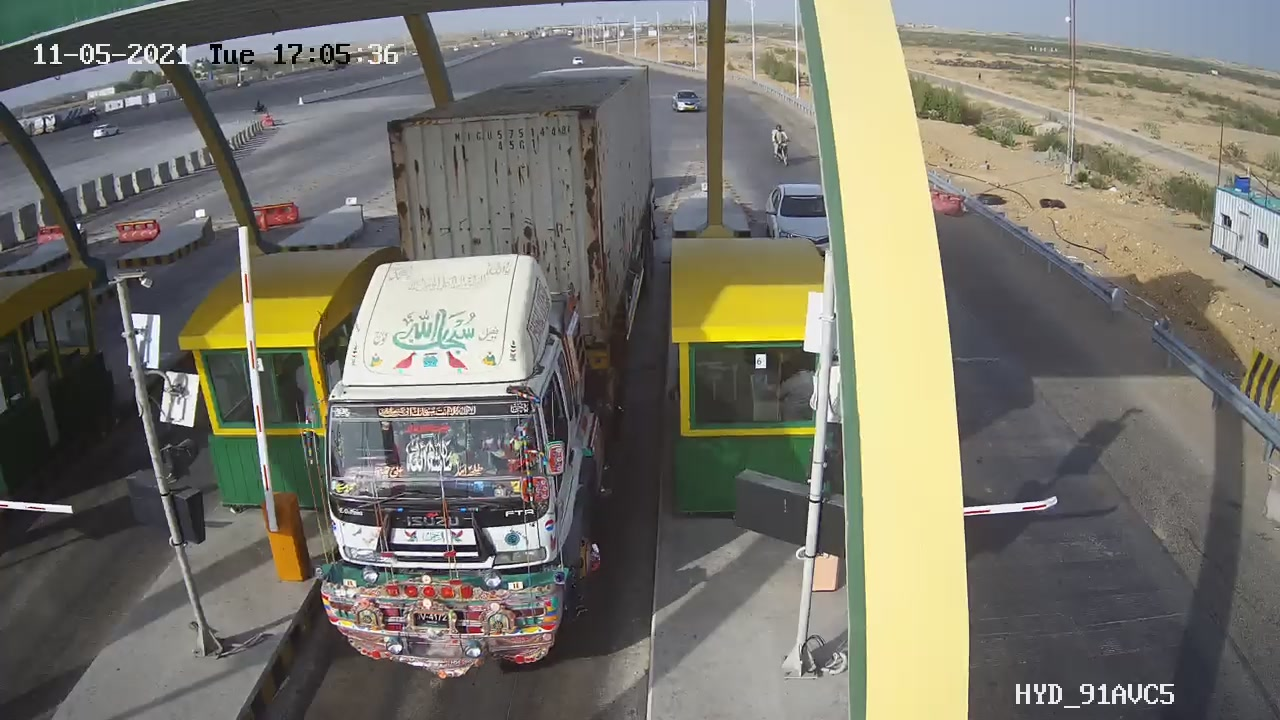F6: (291, 36, 683, 692)
